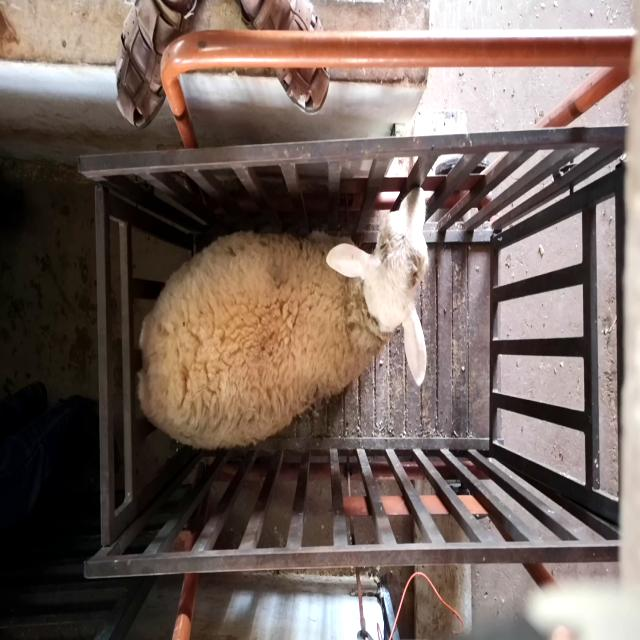sheep: (138, 186, 430, 451)
